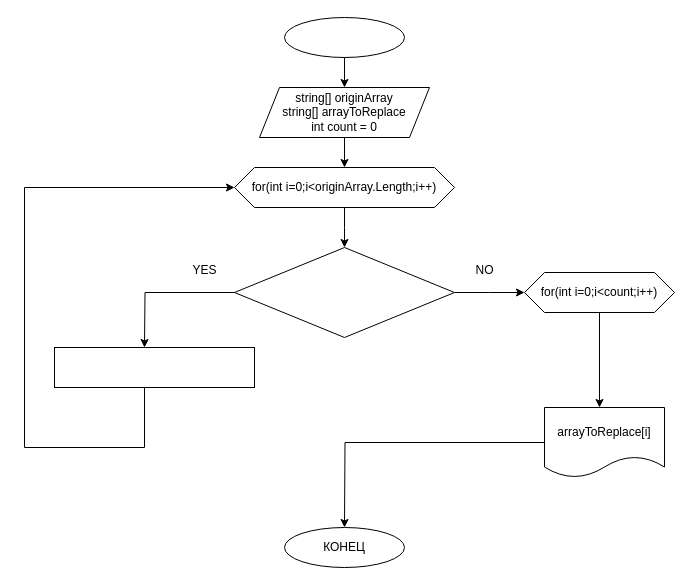
The diagram is 692 pixels wide and 585 high, and some of its shapes have lost their labels. Here are the shapes that lost their labels. From the top down, the centre of each, then its label:
point (344, 37): НАЧАЛО
point (344, 292): originArray[i].Length<=3 ?
point (154, 367): arrayToReplace[count]=originArray[i] count++
